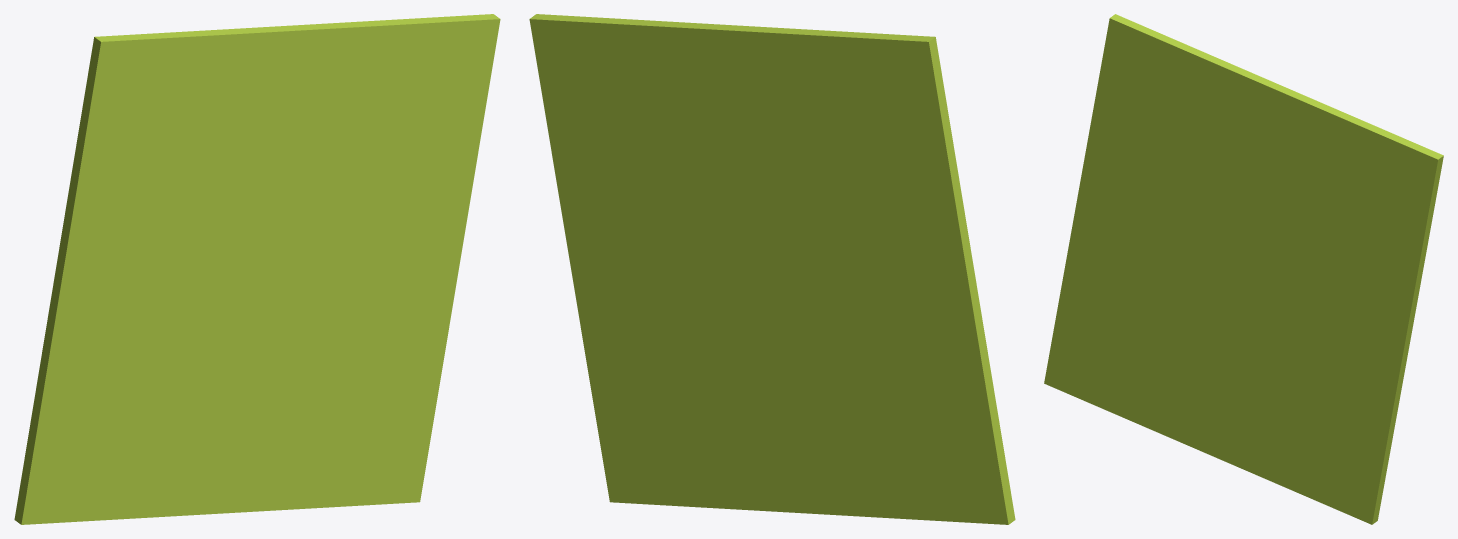
3 renders of one model, left to right at view 1: azimuth 30°, elevation 25°; view 2: azimuth 150°, elevation 25°; view 3: azimuth 330°, elevation 25°, orthographic. The views are drawn at different scales.
Visible parts, largest first — view 1: osm-way27917482-F0; view 2: osm-way27917482-F0; view 3: osm-way27917482-F0.
Boxes of the visible parts, left/top/right/bottom form: osm-way27917482-F0: left=14, top=14, right=500, bottom=524; osm-way27917482-F0: left=529, top=14, right=1015, bottom=524; osm-way27917482-F0: left=1044, top=14, right=1443, bottom=524.
Size of the model in its own units: 5.98 by 6.42 by 0.15.
